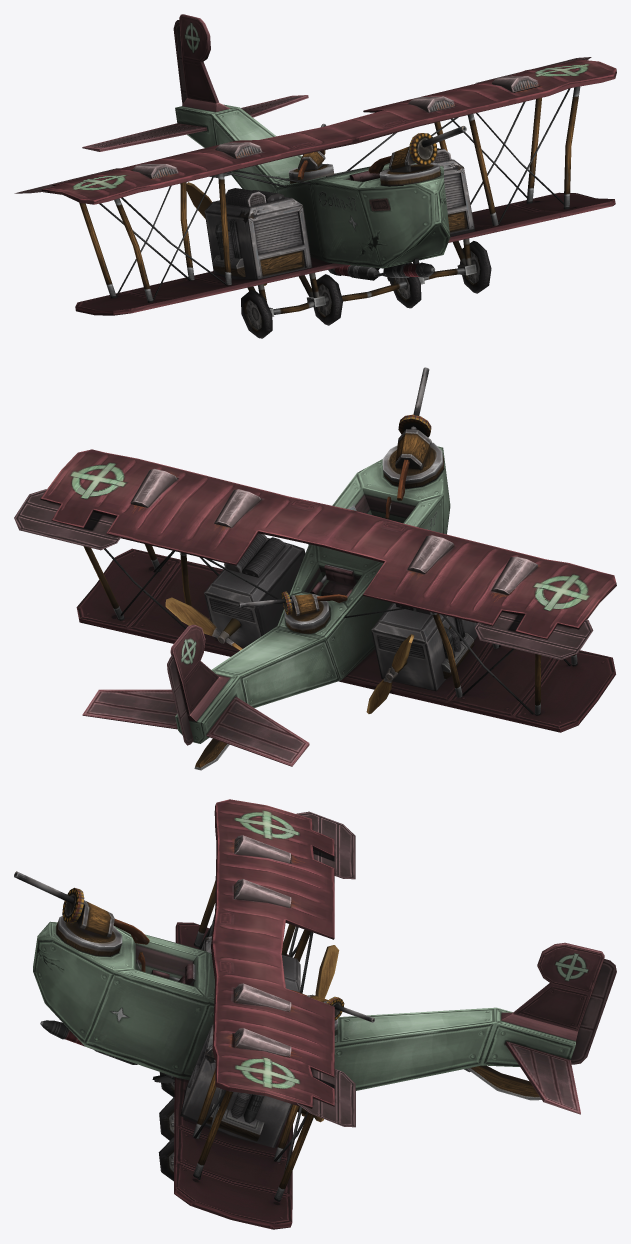
The model's file is Gothabomber Stylised Plane.fbx.
3 renders of one model, top to bottom at view 1: azimuth 30°, elevation 25°; view 2: azimuth 150°, elevation 25°; view 3: azimuth 270°, elevation 25°, orthographic. The views are drawn at different scales.
Parts seen in each view (by area): view 1: Airplane; view 2: Airplane; view 3: Airplane.
Boxes of the visible parts, x1=… form: Airplane: x1=14, y1=14, x2=616, y2=338; Airplane: x1=14, y1=367, x2=616, y2=770; Airplane: x1=14, y1=799, x2=616, y2=1229.
Bounding box in the file's own units: 360 × 148 × 305.
1 material, 1 textured.
